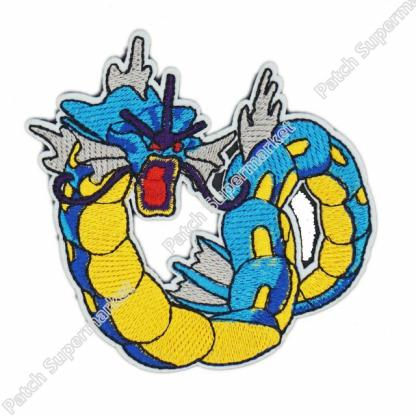Gyarados: (37, 34, 386, 389)
